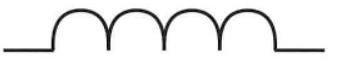inductor: (38, 2, 293, 63)
